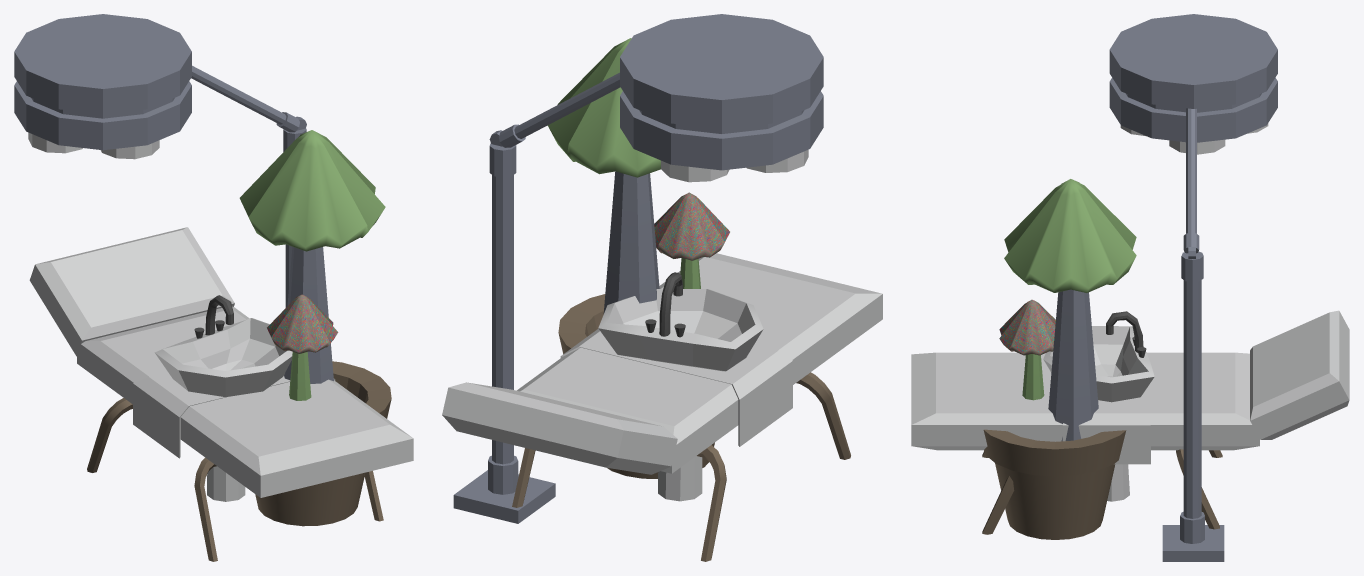
The model's file is AssetsIIv01.fbx.
3 renders of one model, left to right at view 1: azimuth 30°, elevation 25°; view 2: azimuth 150°, elevation 25°; view 3: azimuth 270°, elevation 25°, orthographic. The views are drawn at different scales.
Visible parts, largest first — view 1: SM_LitOpe, SM_LampeOpe, SM_Champi, SM_Lavabo; view 2: SM_LitOpe, SM_LampeOpe, SM_Champi, SM_Lavabo; view 3: SM_LitOpe, SM_Champi, SM_LampeOpe, SM_Lavabo.
Part boxes in pixels (bbox=[...]): SM_LitOpe: bbox=[29, 227, 413, 561]; SM_LampeOpe: bbox=[14, 14, 306, 307]; SM_Champi: bbox=[239, 130, 391, 526]; SM_Lavabo: bbox=[154, 295, 292, 501]; SM_LitOpe: bbox=[442, 253, 882, 561]; SM_LampeOpe: bbox=[453, 14, 823, 523]; SM_Champi: bbox=[547, 38, 729, 478]; SM_Lavabo: bbox=[598, 272, 763, 501]; SM_LitOpe: bbox=[911, 310, 1349, 534]; SM_Champi: bbox=[983, 179, 1136, 539]; SM_LampeOpe: bbox=[1109, 14, 1277, 561]; SM_Lavabo: bbox=[1043, 311, 1154, 501].
Size of the model in its own units: 26.88 by 37.88 by 36.53.
